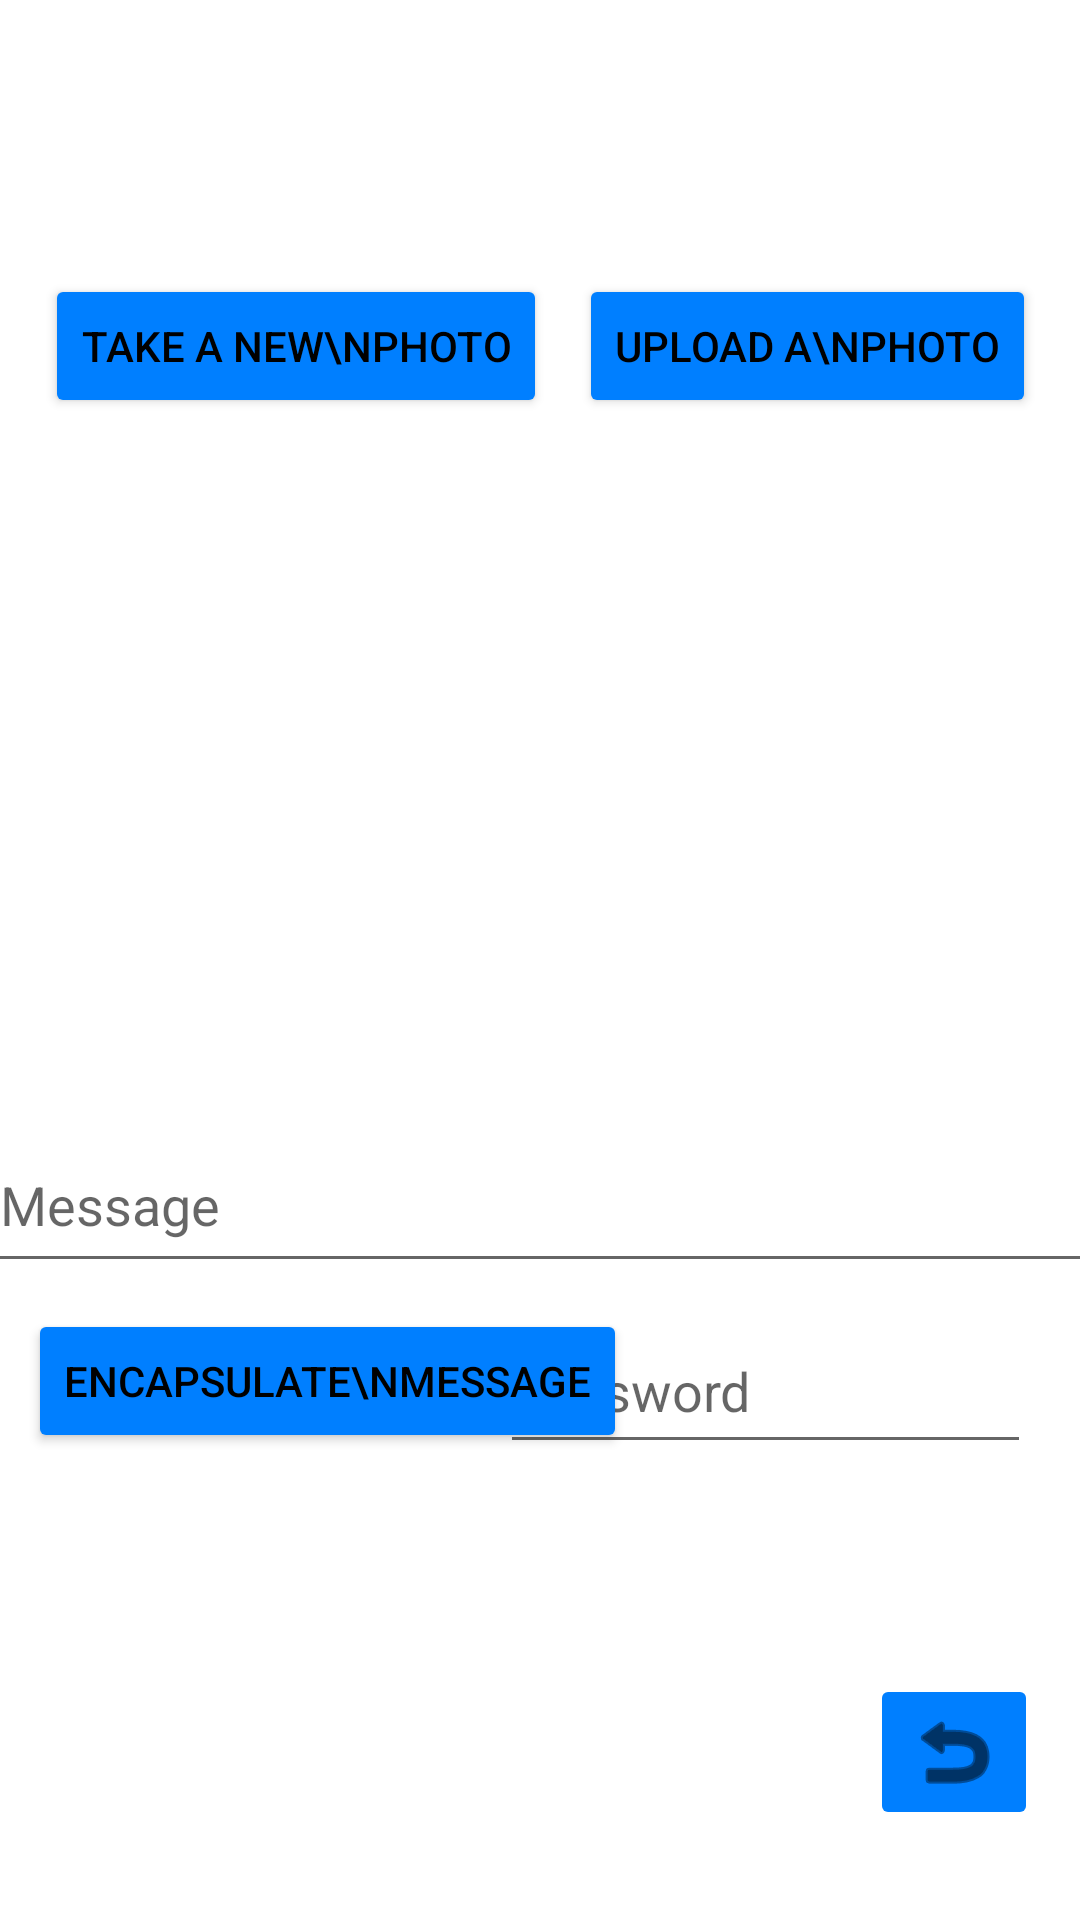

Where icons sit on this 1080x1920 app screen, as (x1, y1, x2, y2):
revert: (882, 1692, 1026, 1812)
